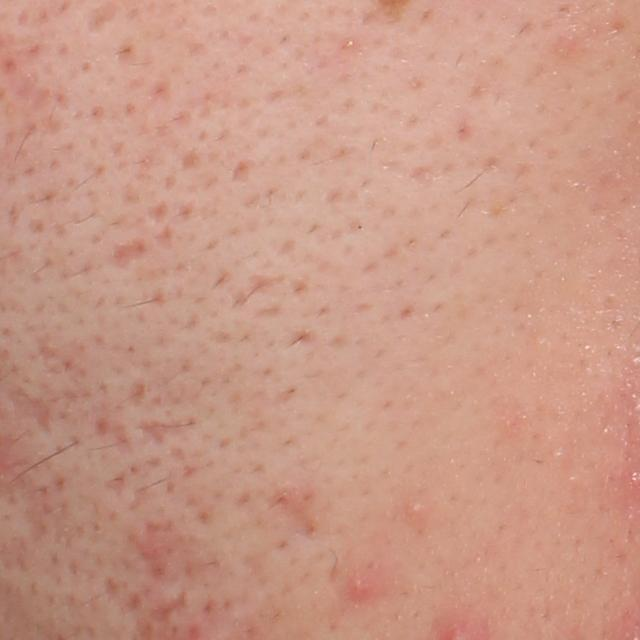atrophic_scar: (126, 515, 183, 585), (8, 388, 56, 438), (132, 418, 201, 452), (146, 591, 192, 627), (110, 237, 151, 272), (129, 383, 149, 407), (103, 475, 124, 495)
comedo: (402, 500, 427, 521)
papule: (347, 575, 374, 604)
